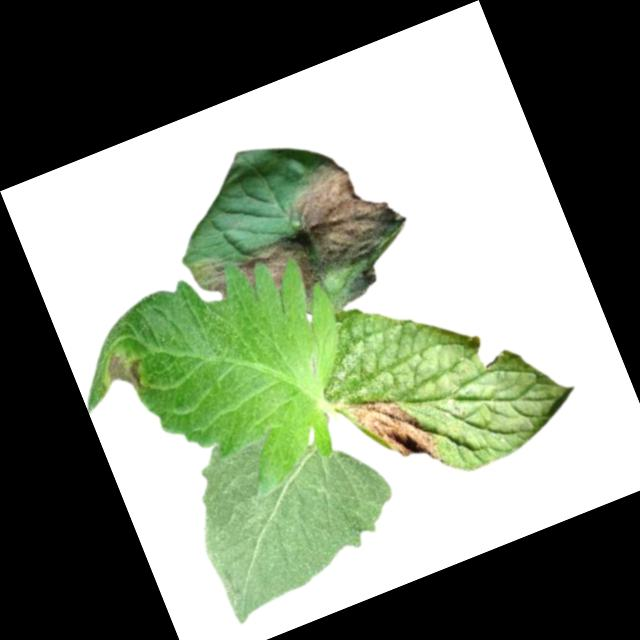Late_blight: (279, 142, 411, 281), (188, 221, 322, 328), (338, 371, 449, 490), (92, 340, 154, 409), (325, 263, 383, 310)
